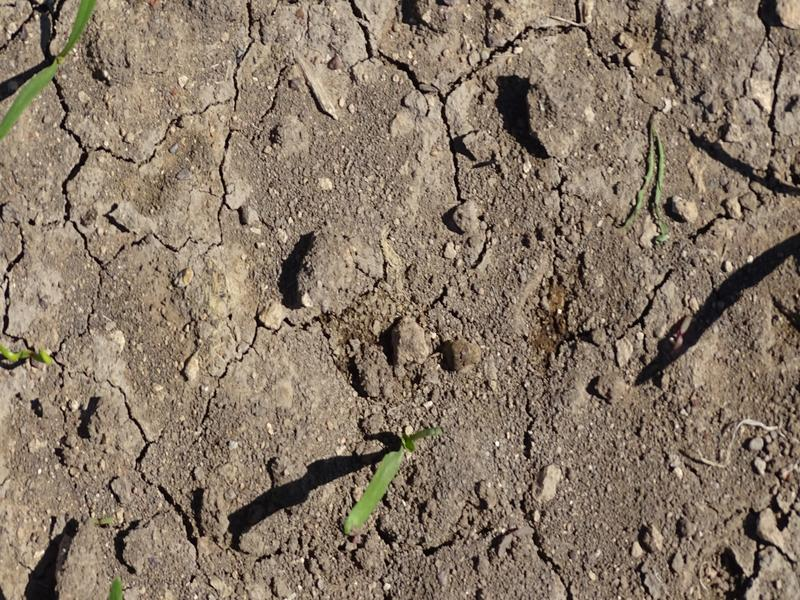Espinaca: (3, 3, 95, 131), (345, 428, 428, 531)
